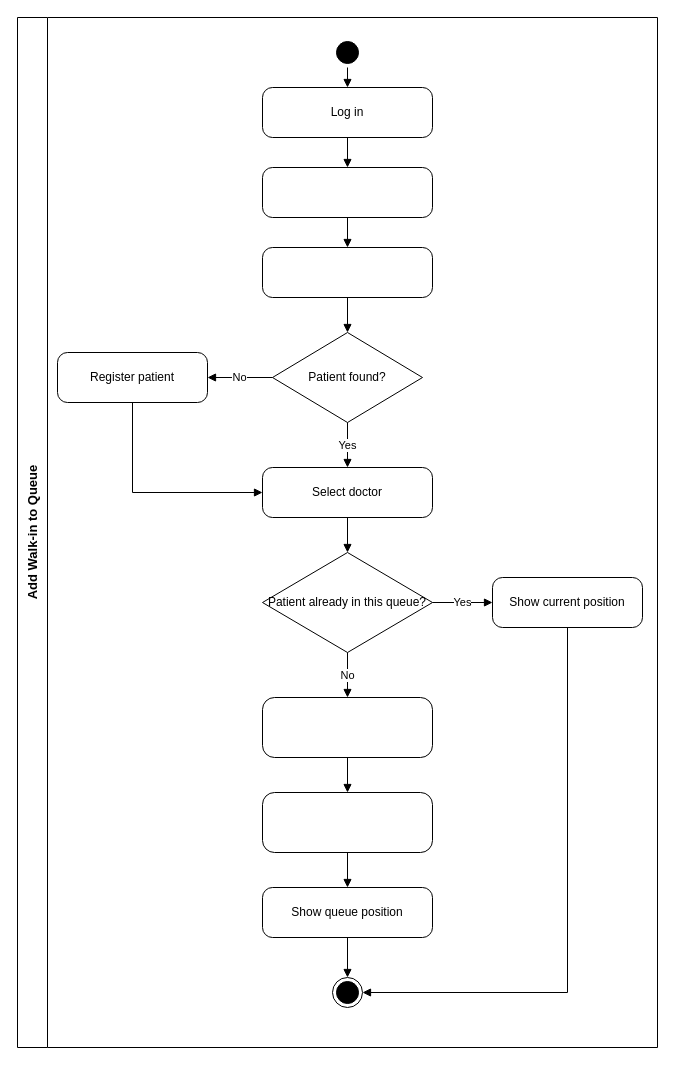
Some shapes in this 675 by 1065 pixel diagram are drawn without their labels. Here are the shapes that lost their labels. From the top down, the centre of each, then its label:
At point 347,192: "Open walk-in".
At point 347,272: "Search for patient".
At point 347,727: "Add patient to end of doctor's queue".
At point 347,822: "Record arrival time, queue position and acting user".
